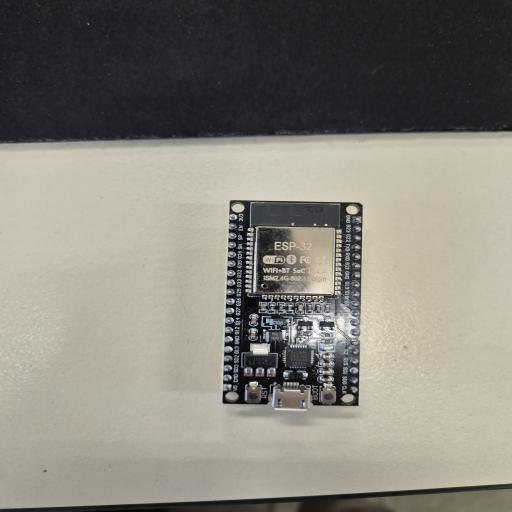esp32-dev: (228, 198, 361, 407)
